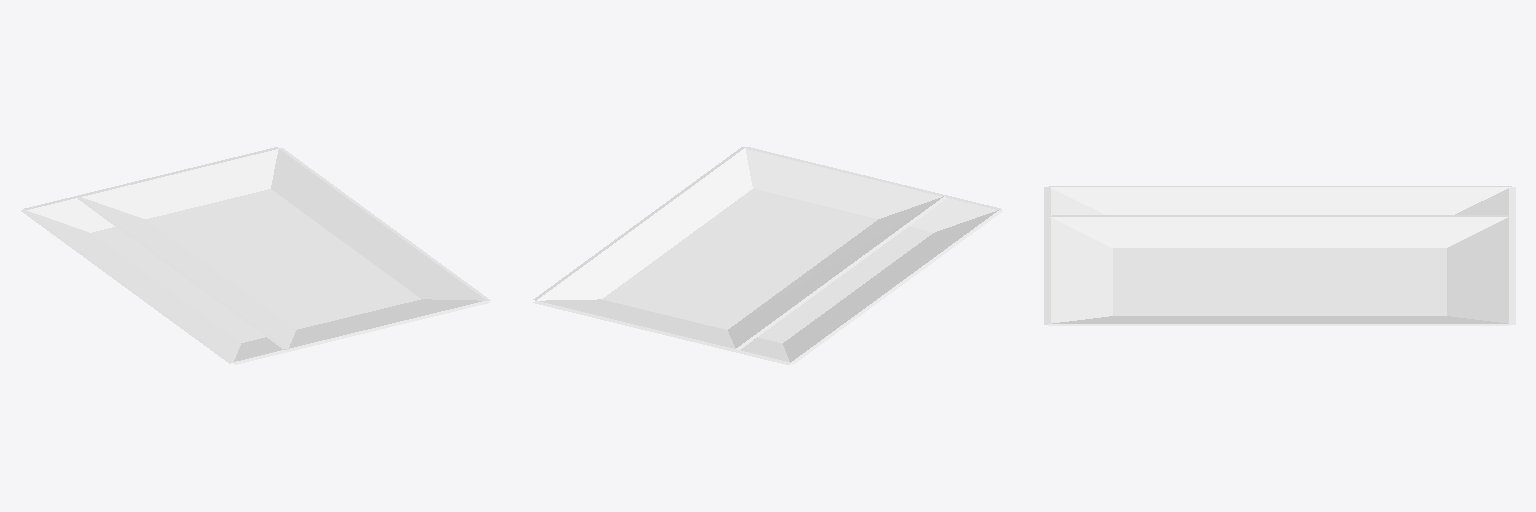
robot.urdf — tray:
<robot name="tray">
  <link name="tray_base_link">
    <contact>
      <lateral_friction value="0.5"/>
      <rolling_friction value="0.0"/>
      <contact_cfm value="0.0"/>
      <contact_erp value="1.0"/>
    </contact>
    <inertial>
      <origin rpy="0 0 0" xyz="0 0 0"/>
      <mass value="0"/>
      <inertia ixx="0" ixy="0" ixz="0" iyy="0" iyz="0" izz="0"/>
    </inertial>
    <visual>
      <origin rpy="0 0 0" xyz="0 0 0"/>
      <geometry>
        <mesh filename="tray_textured_dark.obj" scale="0.55 0.75 0.1"/>
      </geometry>
      <material name="tray_material">
        <color rgba="1 1 1 1"/>
      </material>
    </visual>
    <collision>
      <origin rpy="0 0 0" xyz="0 0 0"/>
      <geometry>
        <mesh filename="tray_textured_dark.obj" scale="0.55 0.75 0.1"/>
      </geometry>
    </collision>
  </link>
</robot>

--- Render facts (derived) ---
3 views of the same robot in one strip: view 1: azimuth 30°, elevation 25°; view 2: azimuth 150°, elevation 25°; view 3: azimuth 270°, elevation 25° (orthographic).
Model tray with 1 links and 0 joints (none), rooted at tray_base_link, posed every joint at zero.
Links seen in each view (by area): view 1: tray_base_link; view 2: tray_base_link; view 3: tray_base_link.
Link boxes in pixels (box(x1,y1,x2,y2)): tray_base_link: box(21, 147, 490, 364); tray_base_link: box(533, 147, 1002, 364); tray_base_link: box(1044, 186, 1515, 325).
Size in the robot's own frame: 0.6532 by 0.9232 by 0.0277 metres.
Meshes: 1 distinct files referenced, 1 mesh visuals loaded (1 OBJ).